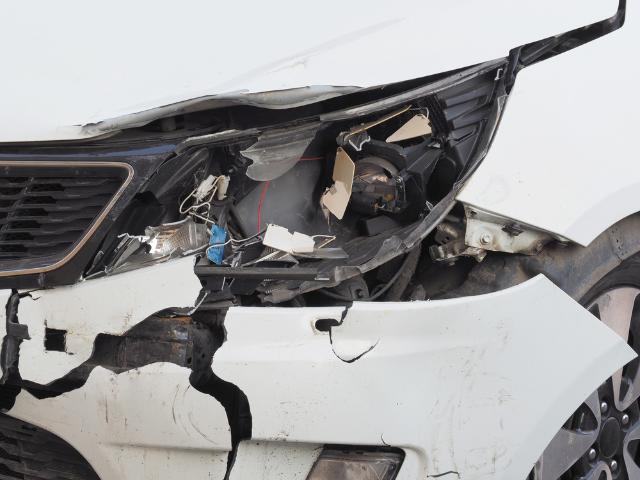crack: (0, 263, 253, 480), (314, 303, 380, 363)
lamp broken: (89, 63, 505, 278)
scratch: (430, 329, 519, 480)
